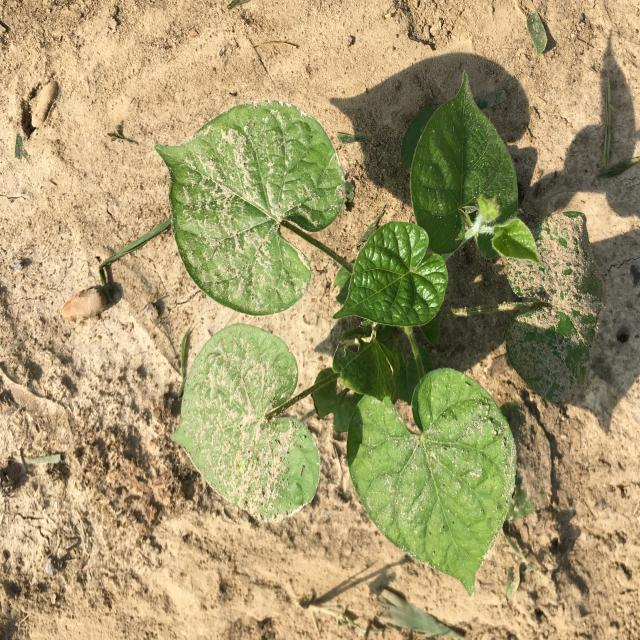MorningGlory: (155, 71, 605, 599)
